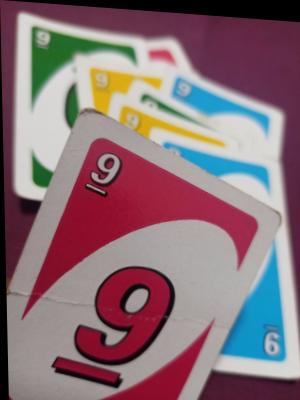num_9: (49, 253, 184, 400), (80, 142, 126, 198), (255, 314, 287, 360), (33, 24, 52, 52)
